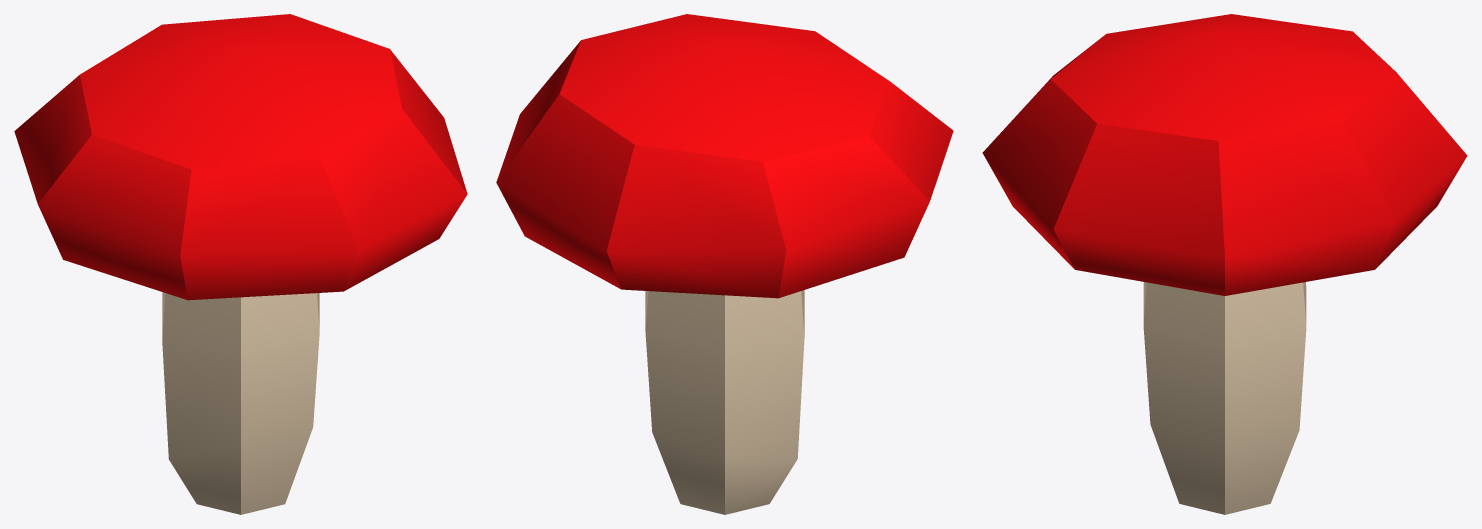
Rendered from red_mushroom.obj.
3 renders of one model, left to right at view 1: azimuth 30°, elevation 25°; view 2: azimuth 150°, elevation 25°; view 3: azimuth 270°, elevation 25°, orthographic. The views are drawn at different scales.
Size of the model in its own units: 0.7013 by 0.7342 by 0.7013.
